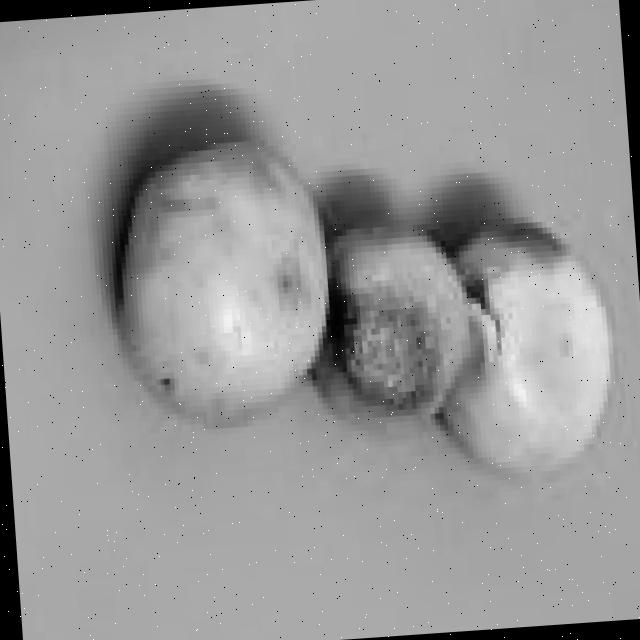Bad_Orange-0-1 day: (306, 229, 479, 432)
